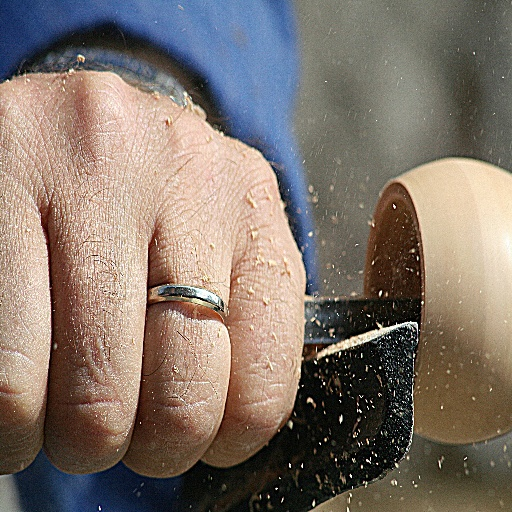hand: (0, 67, 306, 478)
